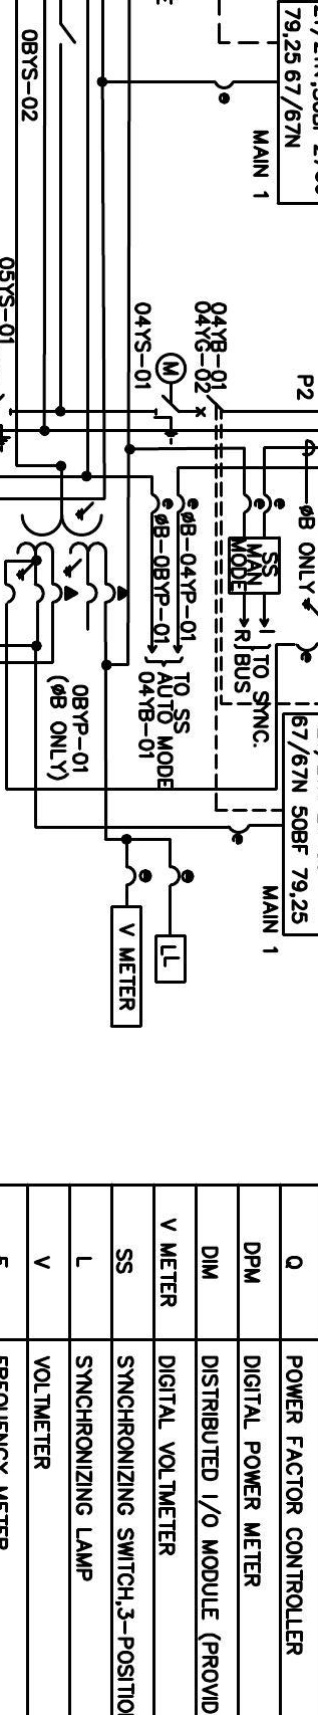115_3ways_ds_w_motor: (153, 351, 188, 446)
115_breaker: (194, 394, 225, 418)
115_ds: (58, 21, 77, 47)
115_vt_1p: (15, 500, 130, 605)
LL: (153, 933, 188, 985)
ss_man_mode: (227, 535, 282, 596)
v_m_digital: (109, 904, 144, 1029)
